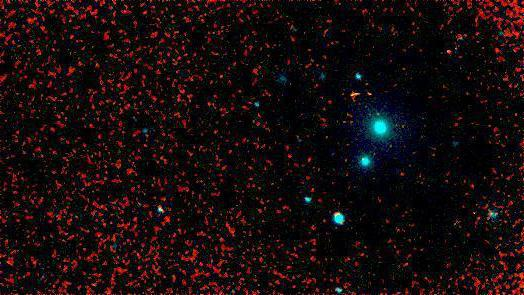star: (356, 78, 386, 108)
